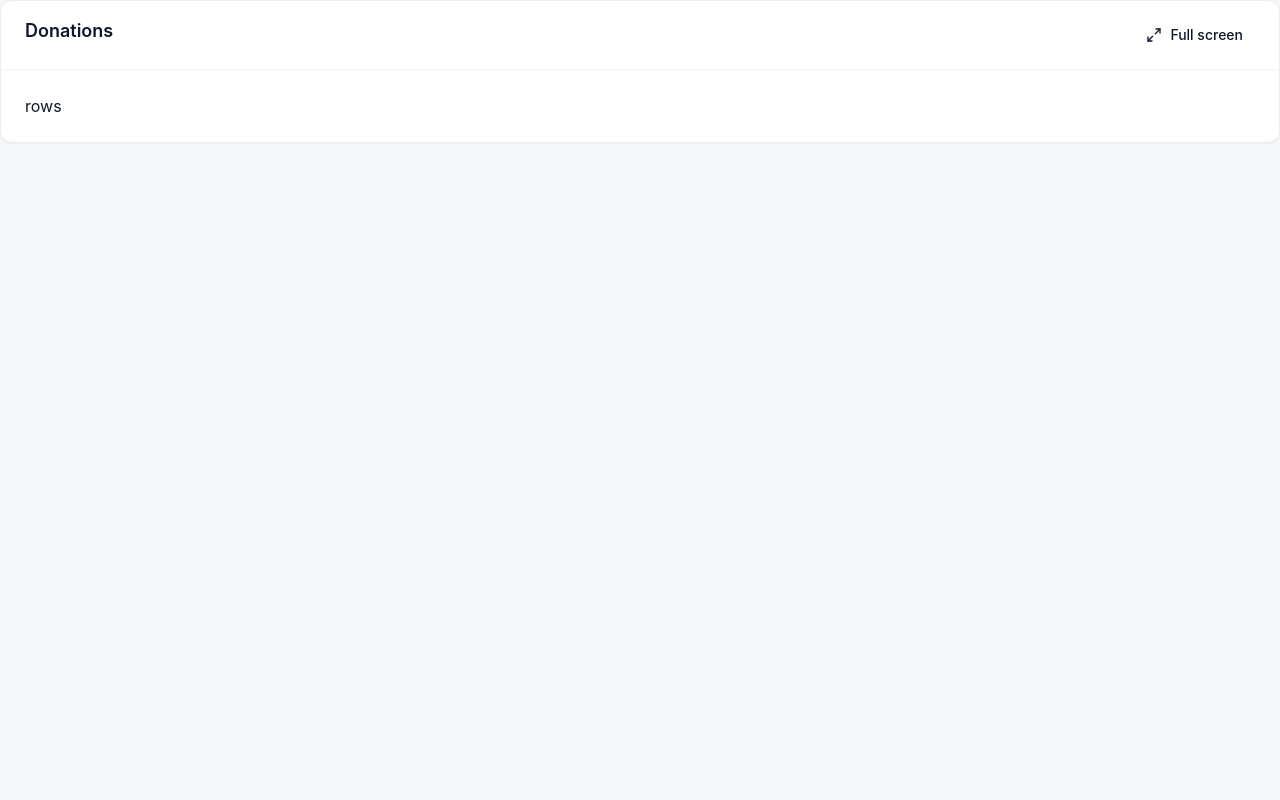
Test: WorkspaceShell › exits full screen via the toggle button
Click the button with aria-label "Open full screen workspace": (1195, 35) [1134, 17, 1255, 53]
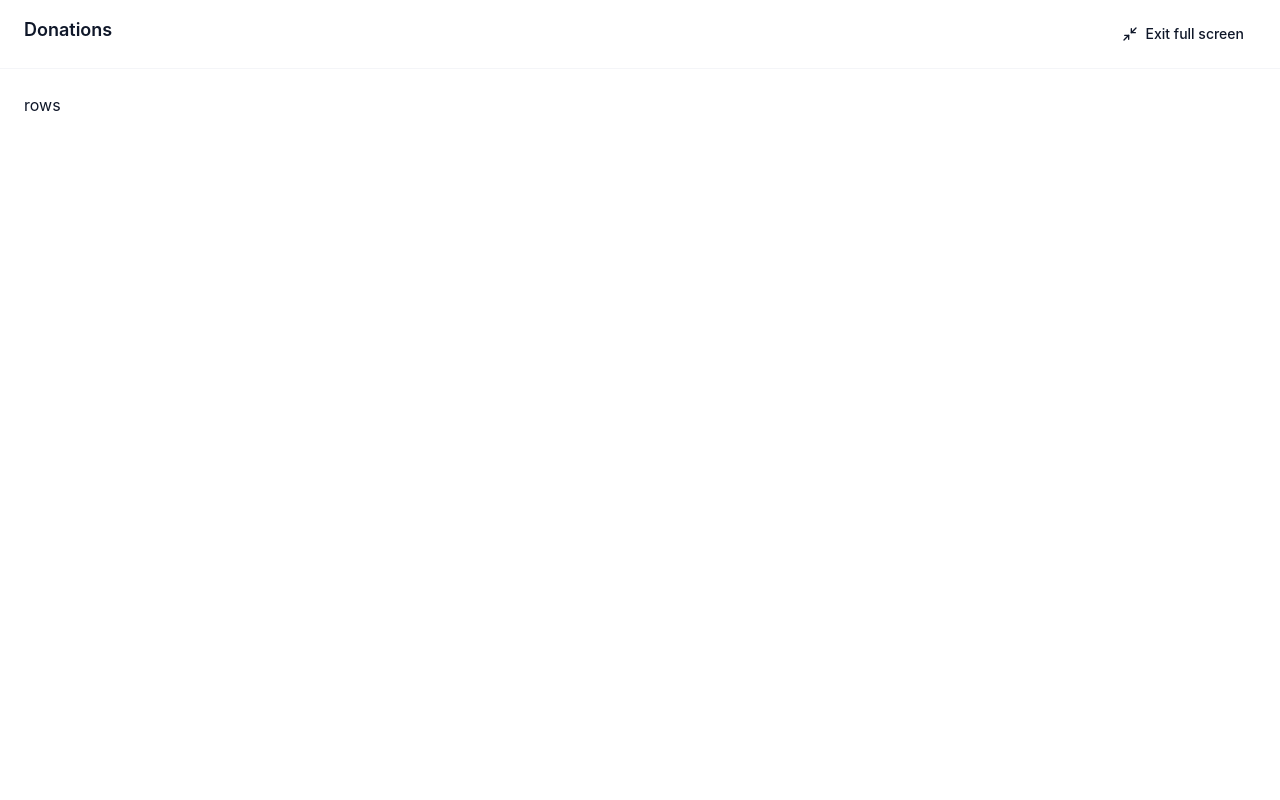
Click the button labelled "Exit full screen": (1183, 34) [1110, 16, 1256, 52]
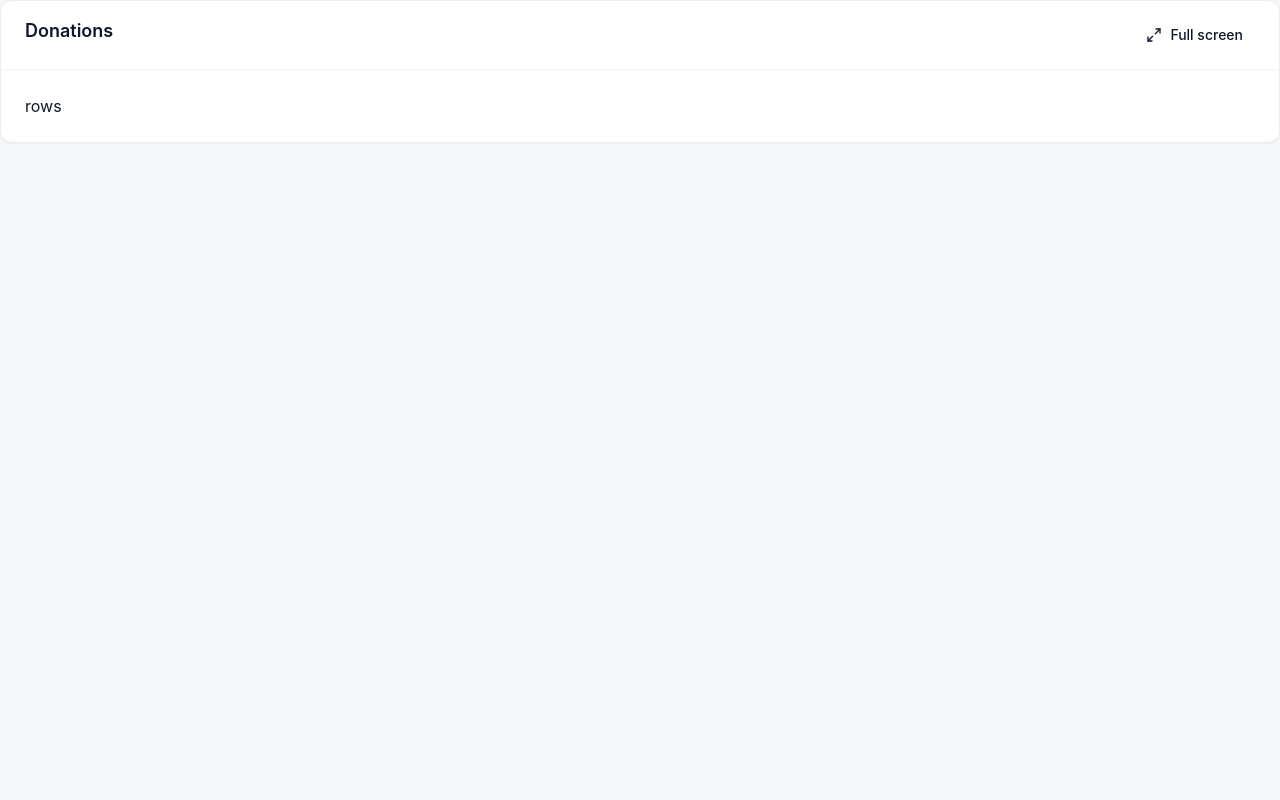
Now the button with aria-label "Open full screen workspace" is shown, box [1134, 17, 1255, 53]
